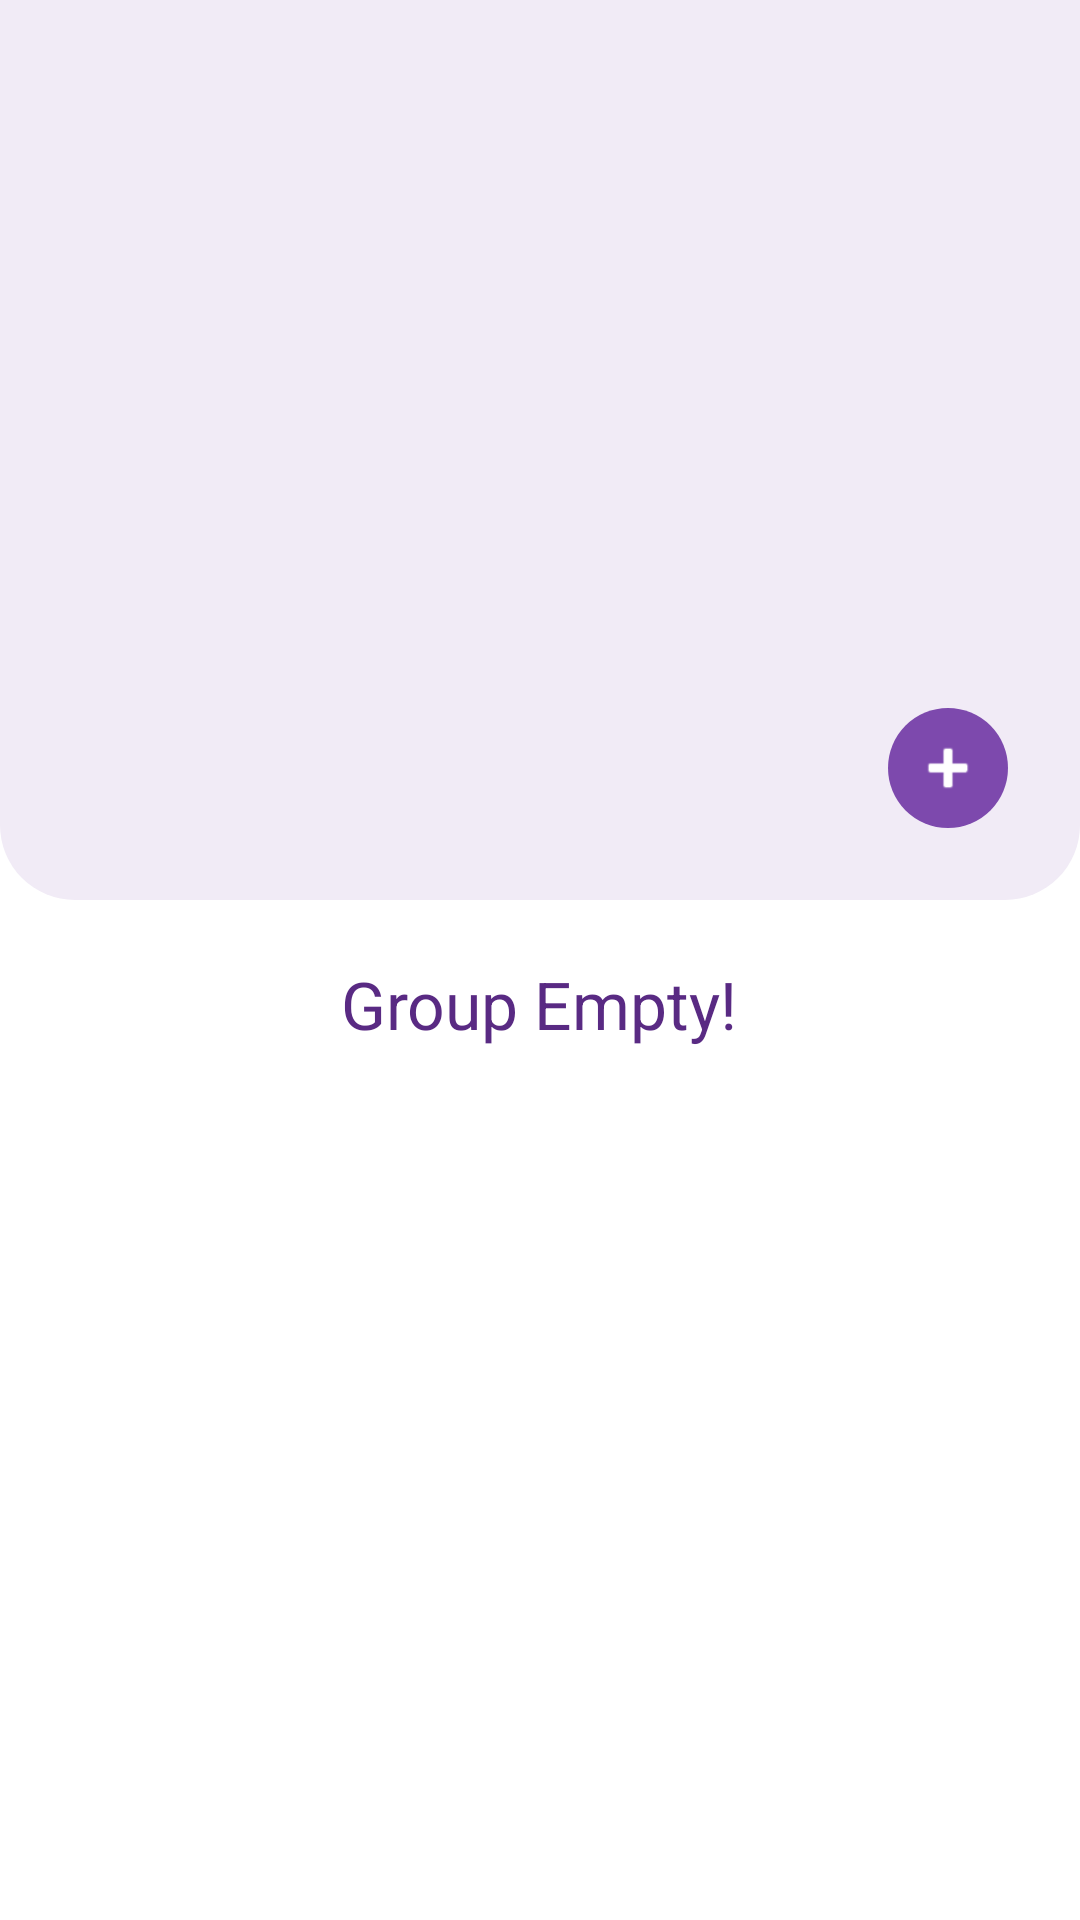

Where to tap for icons on this 1080px x 1920px app screen, as point (x, y):
add: point (948, 768)
